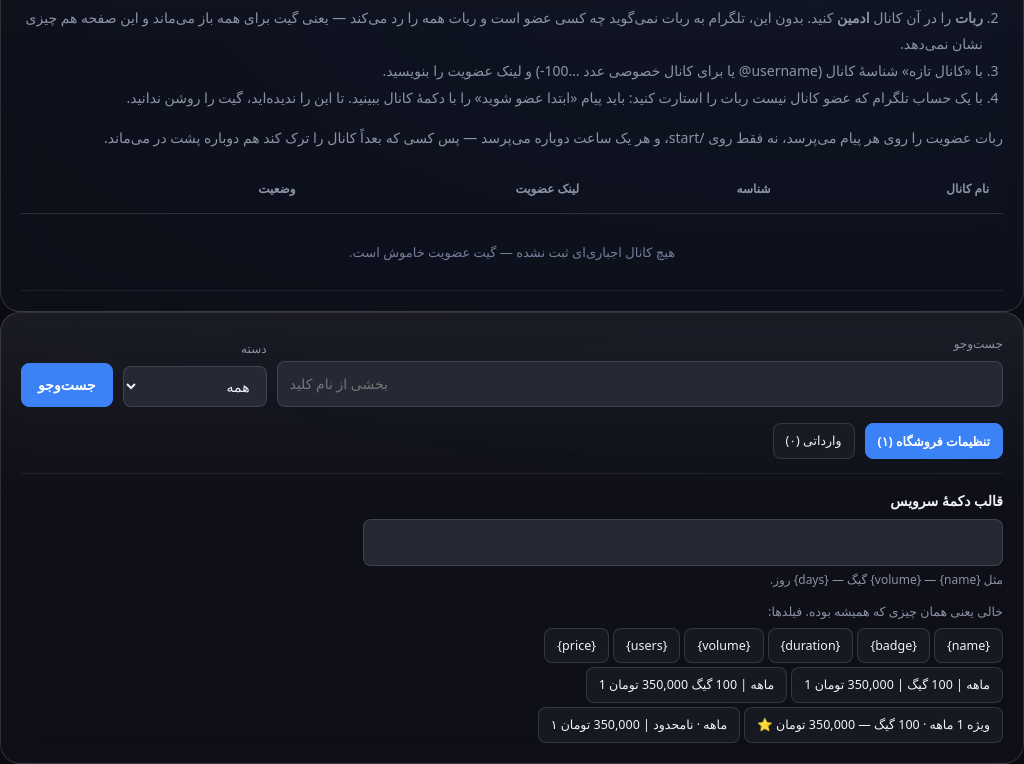
Scenario: the plan-button template › saves a preset that was chosen with the mouse
This screenshot has width=1024, height=764.
(page scrolled)
Click the button "{name}" at [968, 646], box [934,628,1003,664]
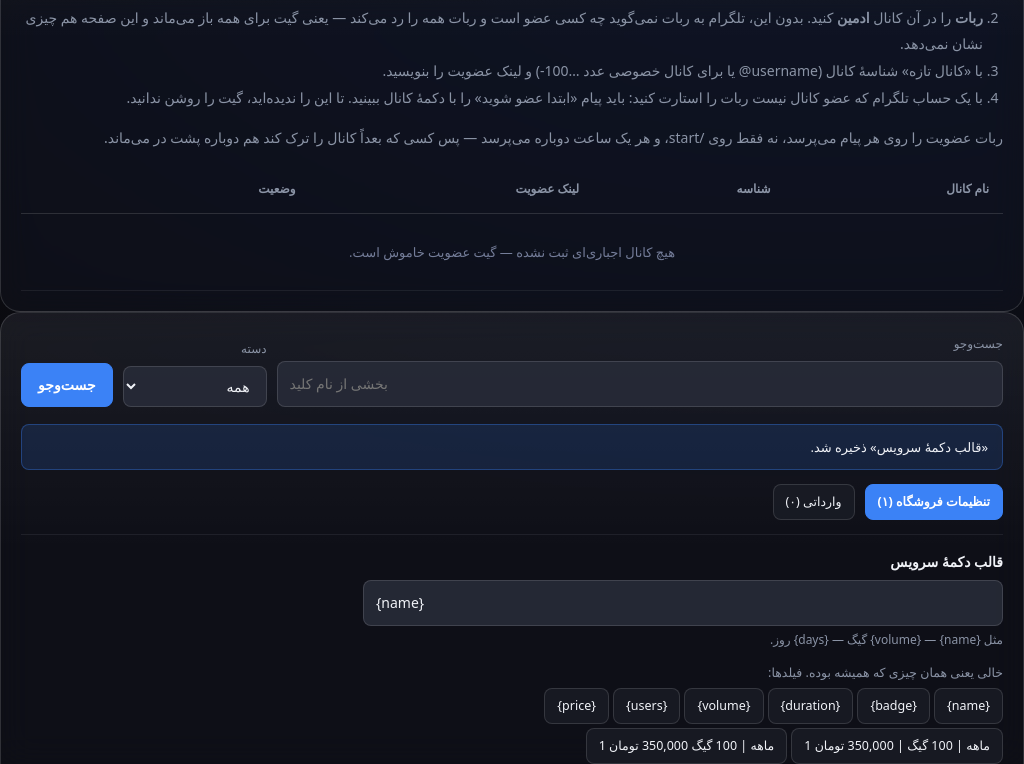
expect the text "«قالب دکمهٔ سرویس» ذخیره شد." is shown: met, box [21,424,1003,470]
expect the field labelled "قالب دکمهٔ سرویس" holds "{name}": met, box [363,580,1003,626]
